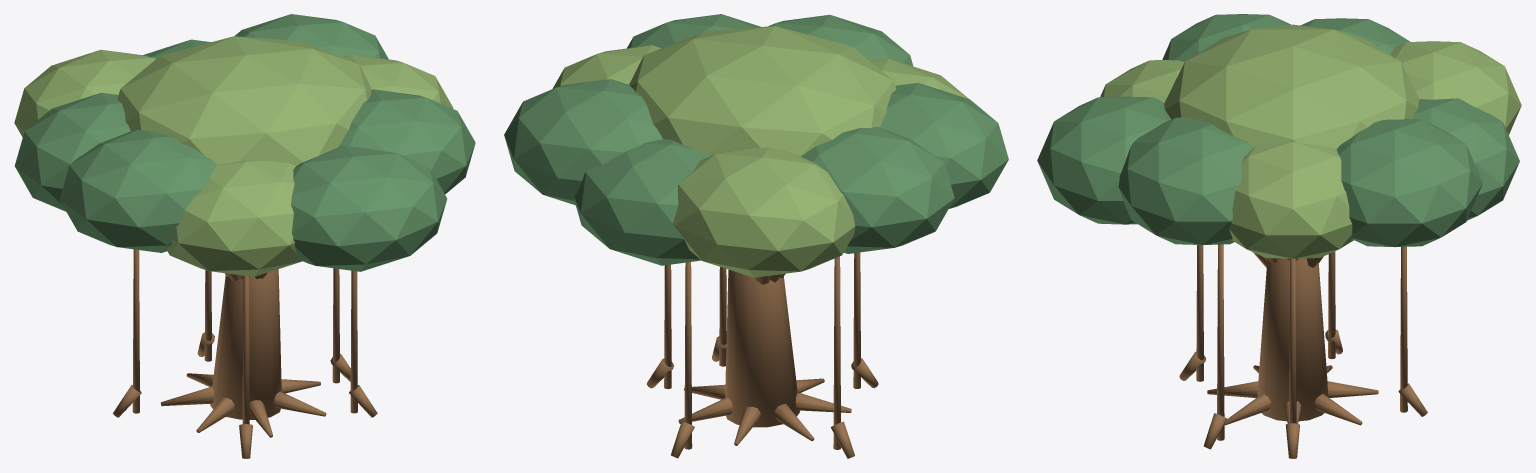
File: banyan.glb
3 views of the same model, side by side, from view 1: azimuth 30°, elevation 25°; view 2: azimuth 150°, elevation 25°; view 3: azimuth 270°, elevation 25° (orthographic). The views are drawn at different scales.
Parts seen in each view (by area): view 1: banyan; view 2: banyan; view 3: banyan.
Part boxes in pixels (bbox=[...]): banyan: bbox=[14, 14, 475, 458]; banyan: bbox=[504, 14, 1008, 458]; banyan: bbox=[1037, 14, 1521, 458].
Size of the model in its own units: 4.5 by 3.87 by 4.72.
